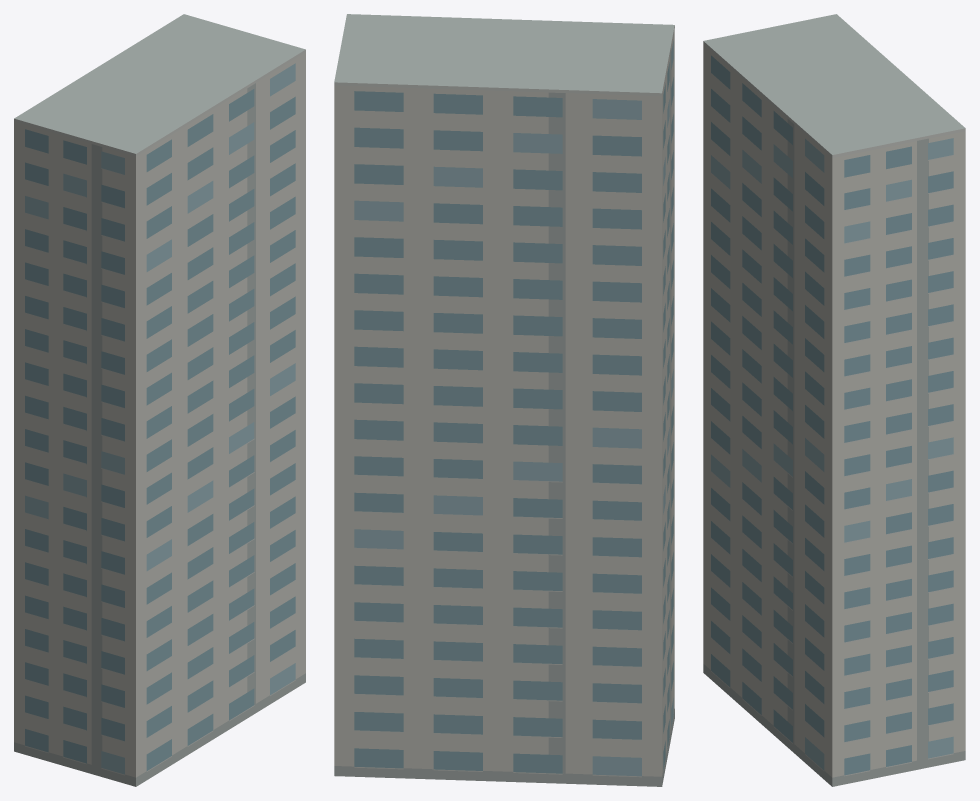
The model's file is residential-e235401e-644f-4ba5-913d-77c25d0272c1.glb.
The picture shows the model from 3 angles, left to right: view 1: azimuth 30°, elevation 25°; view 2: azimuth 150°, elevation 25°; view 3: azimuth 270°, elevation 25°; orthographic projection. The views are drawn at different scales.
Visible parts, largest first — view 1: residential-e235401e-644f-4ba5-913d-77c25d0272c1.tmp; view 2: residential-e235401e-644f-4ba5-913d-77c25d0272c1.tmp; view 3: residential-e235401e-644f-4ba5-913d-77c25d0272c1.tmp.
Boxes of the visible parts, x1,y1,x2,y2 form: residential-e235401e-644f-4ba5-913d-77c25d0272c1.tmp: (14, 14, 305, 786); residential-e235401e-644f-4ba5-913d-77c25d0272c1.tmp: (334, 14, 674, 786); residential-e235401e-644f-4ba5-913d-77c25d0272c1.tmp: (703, 14, 965, 786).
Bounding box in the file's own units: 25.88 × 54 × 20.34.
